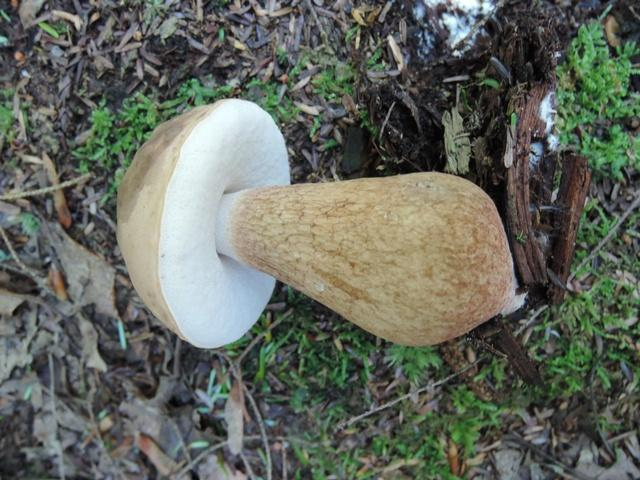poisonous_mushroom: (114, 96, 526, 351)
